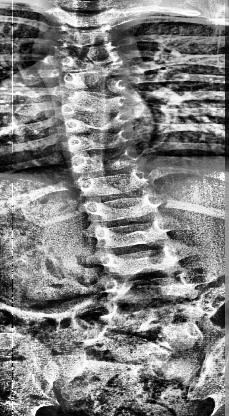Vertebrae: (100, 300, 202, 336), (68, 356, 156, 396), (87, 330, 170, 370), (100, 274, 198, 304), (88, 218, 174, 250), (98, 244, 182, 276), (81, 194, 168, 222), (71, 170, 155, 198), (59, 62, 133, 92), (56, 97, 132, 123), (68, 148, 140, 174), (60, 113, 134, 138), (52, 43, 124, 68), (60, 88, 132, 112), (54, 22, 119, 48), (63, 131, 133, 153), (54, 6, 118, 29)
